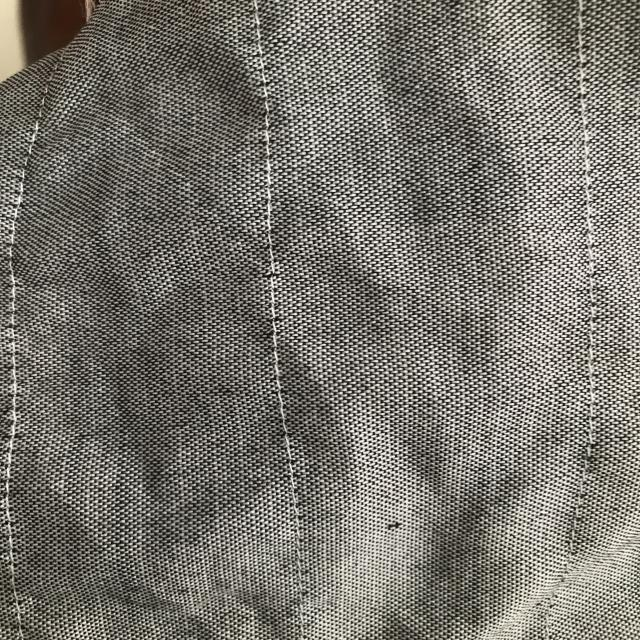good: (266, 333, 312, 497), (245, 137, 290, 262)
